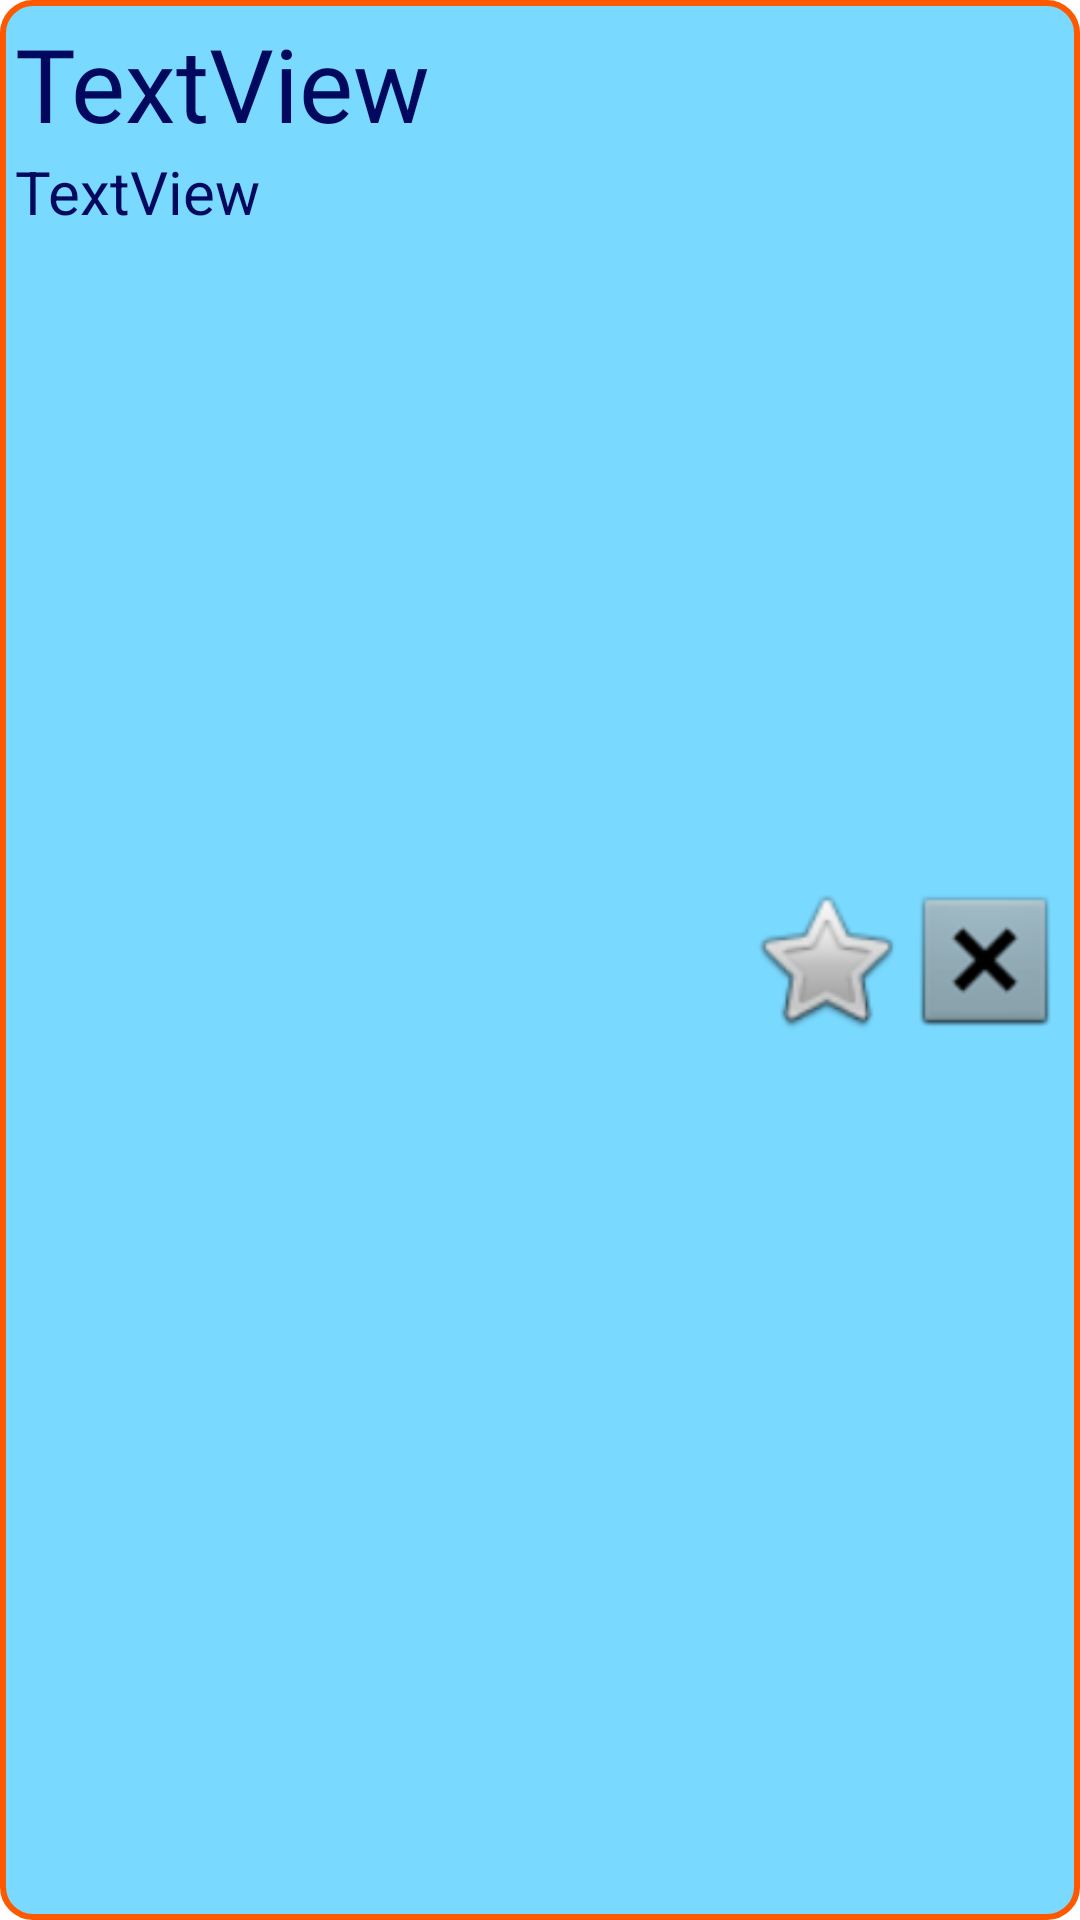

Where icons sit on this 1080px×1920px app screen, as box=[x1, y1, x2, y2]:
star off: box=[760, 896, 893, 1026]
